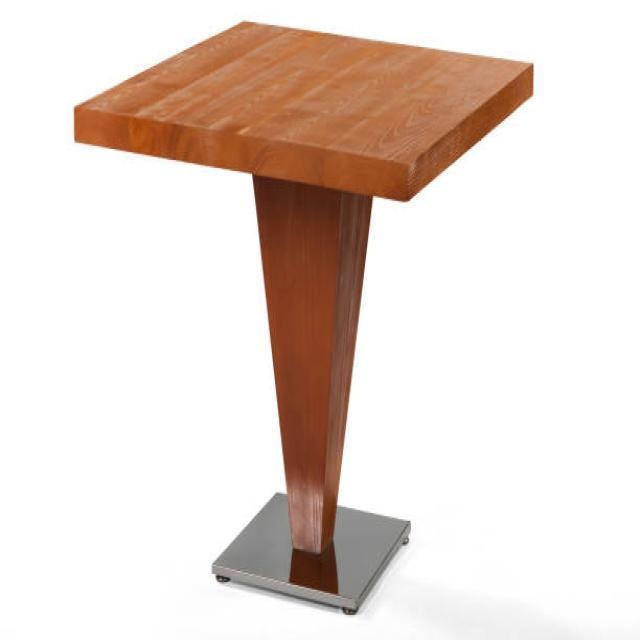table: (72, 17, 534, 612)
